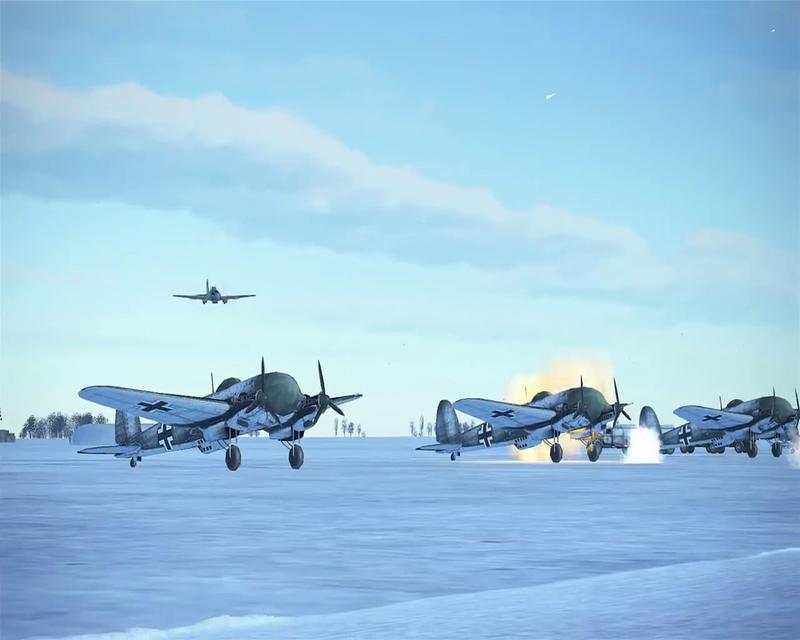UAV: (72, 355, 363, 470), (416, 374, 634, 462), (640, 385, 800, 458), (174, 280, 256, 307)
